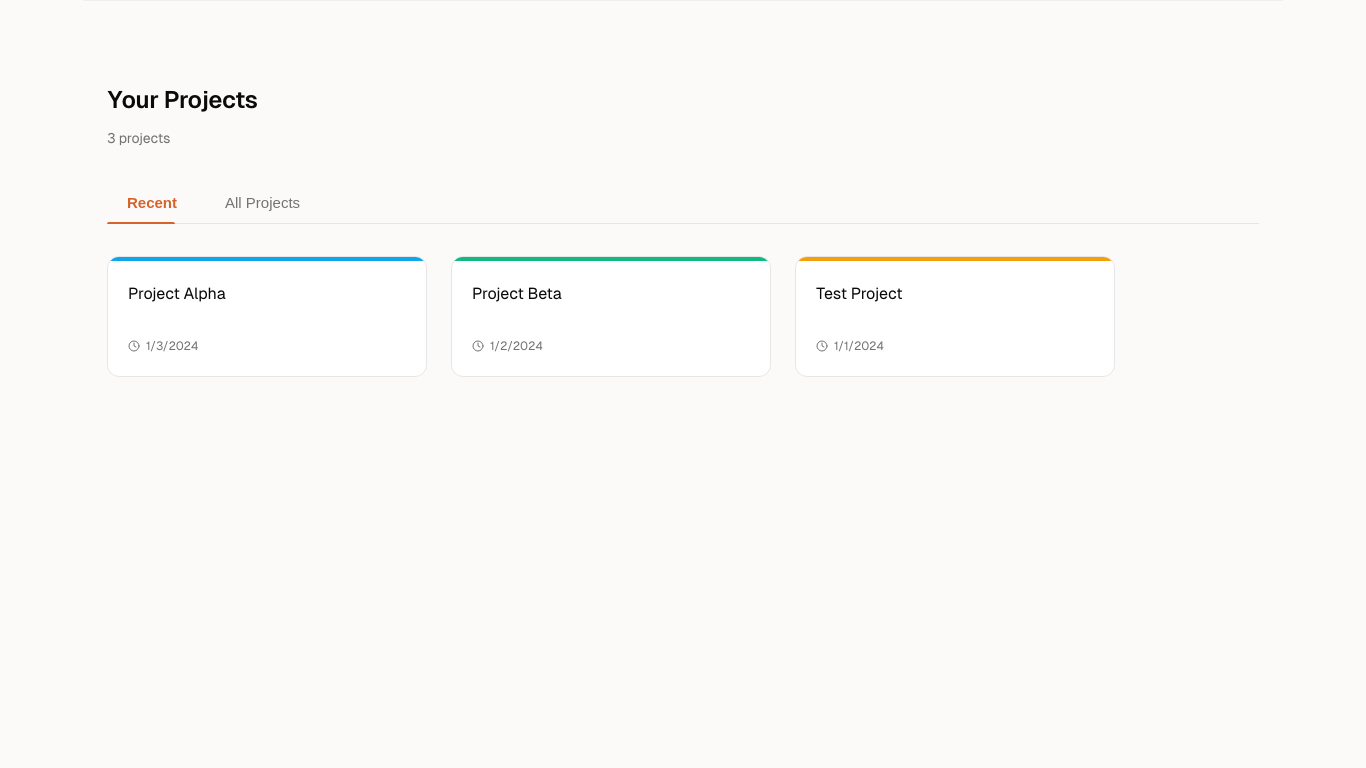
ProjectGallery › should show empty search state when no projects match search
The width and height of the screenshot is (1366, 768).
Click the tab "All Projects" at (262, 202), box x1=205 y1=182 x2=320 y2=223
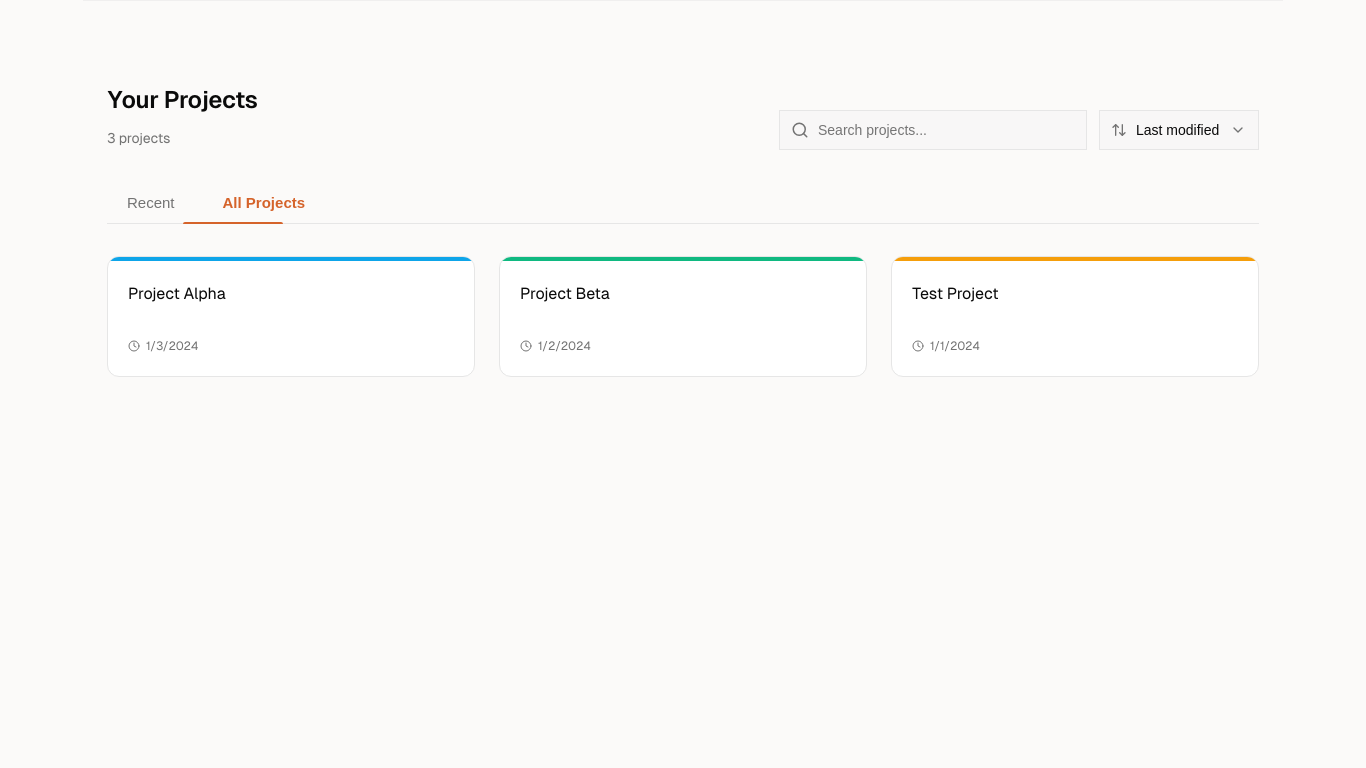
Type "NonExistentProject" into the search field with placeholder "Search projects..." at (933, 130), box x1=779 y1=110 x2=1087 y2=150
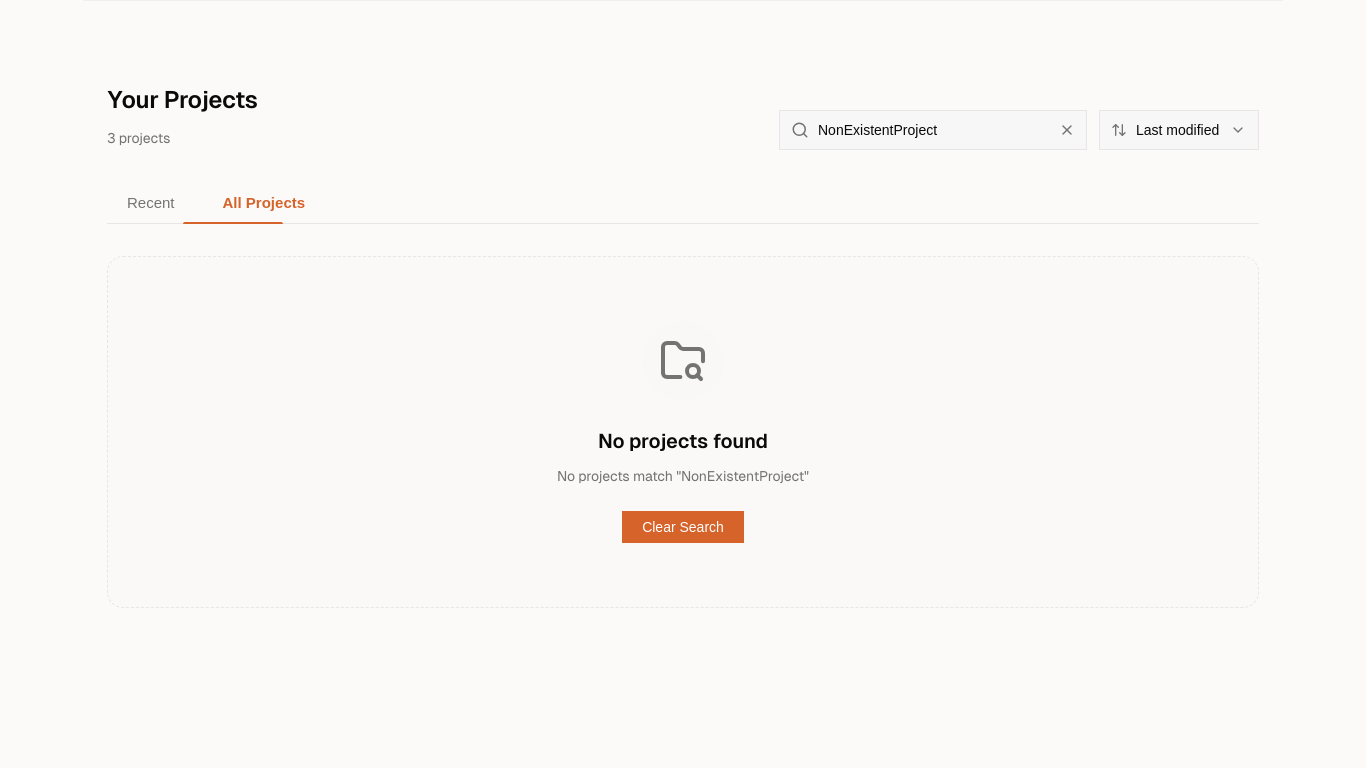
Expected: the heading "No projects found" is shown, x1=598 y1=425 x2=768 y2=457
Expected: the text "No projects match \"NonExistentProject\"" is shown, x1=557 y1=465 x2=809 y2=487
Expected: the button "Clear Search" is shown, x1=622 y1=511 x2=744 y2=543
